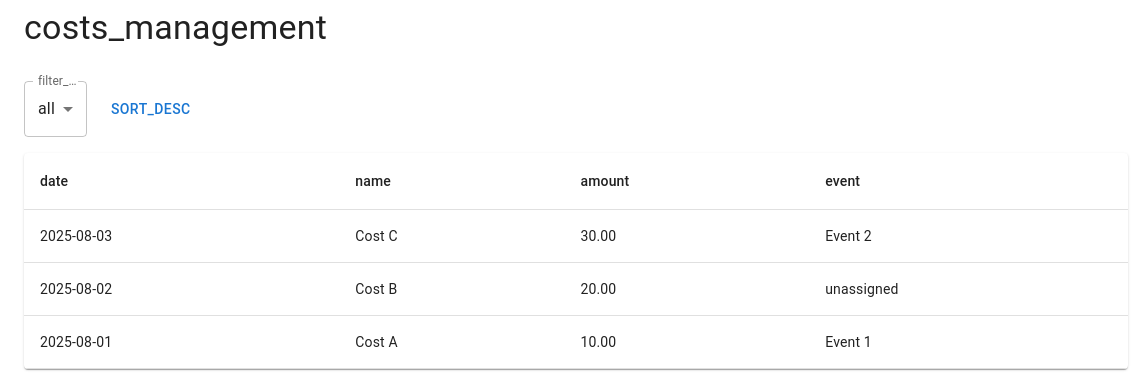
Test: CostsManagementView › filters to show only unassigned costs
Press the mouse on the dropdown named "filter_event" at (46, 109), box x1=38 y1=100 x2=55 y2=118
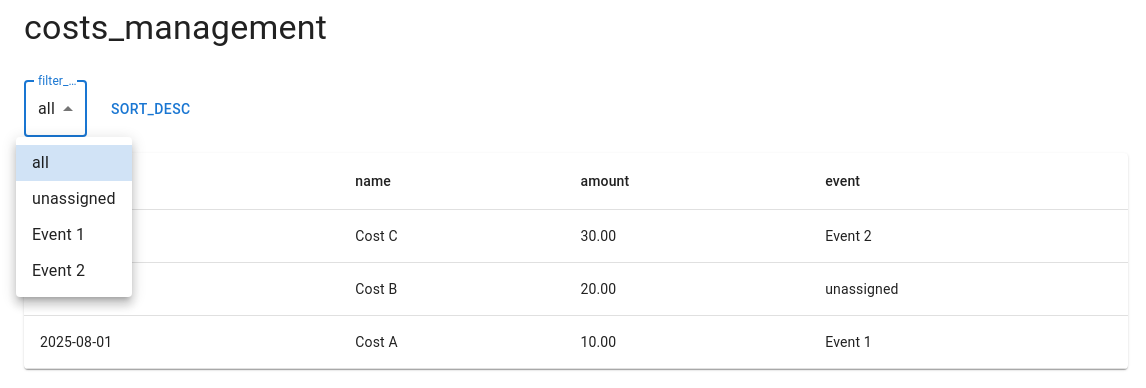
Click the option "unassigned". click: (74, 198)
box: x1=32 y1=189 x2=116 y2=208
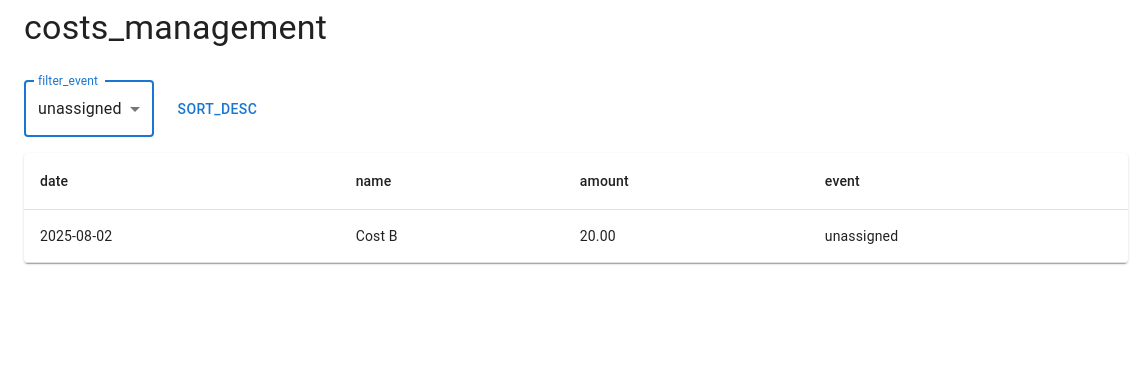
Expected: the text "Cost B" is shown, x1=340 y1=210 x2=564 y2=262
Expected: the text "Cost A" is gone
Expected: the text "Cost C" is gone
